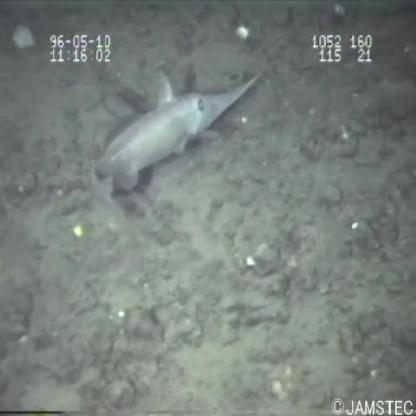Bio: (77, 56, 271, 232)
